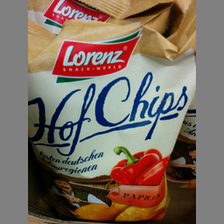chips: (28, 26, 190, 219)
